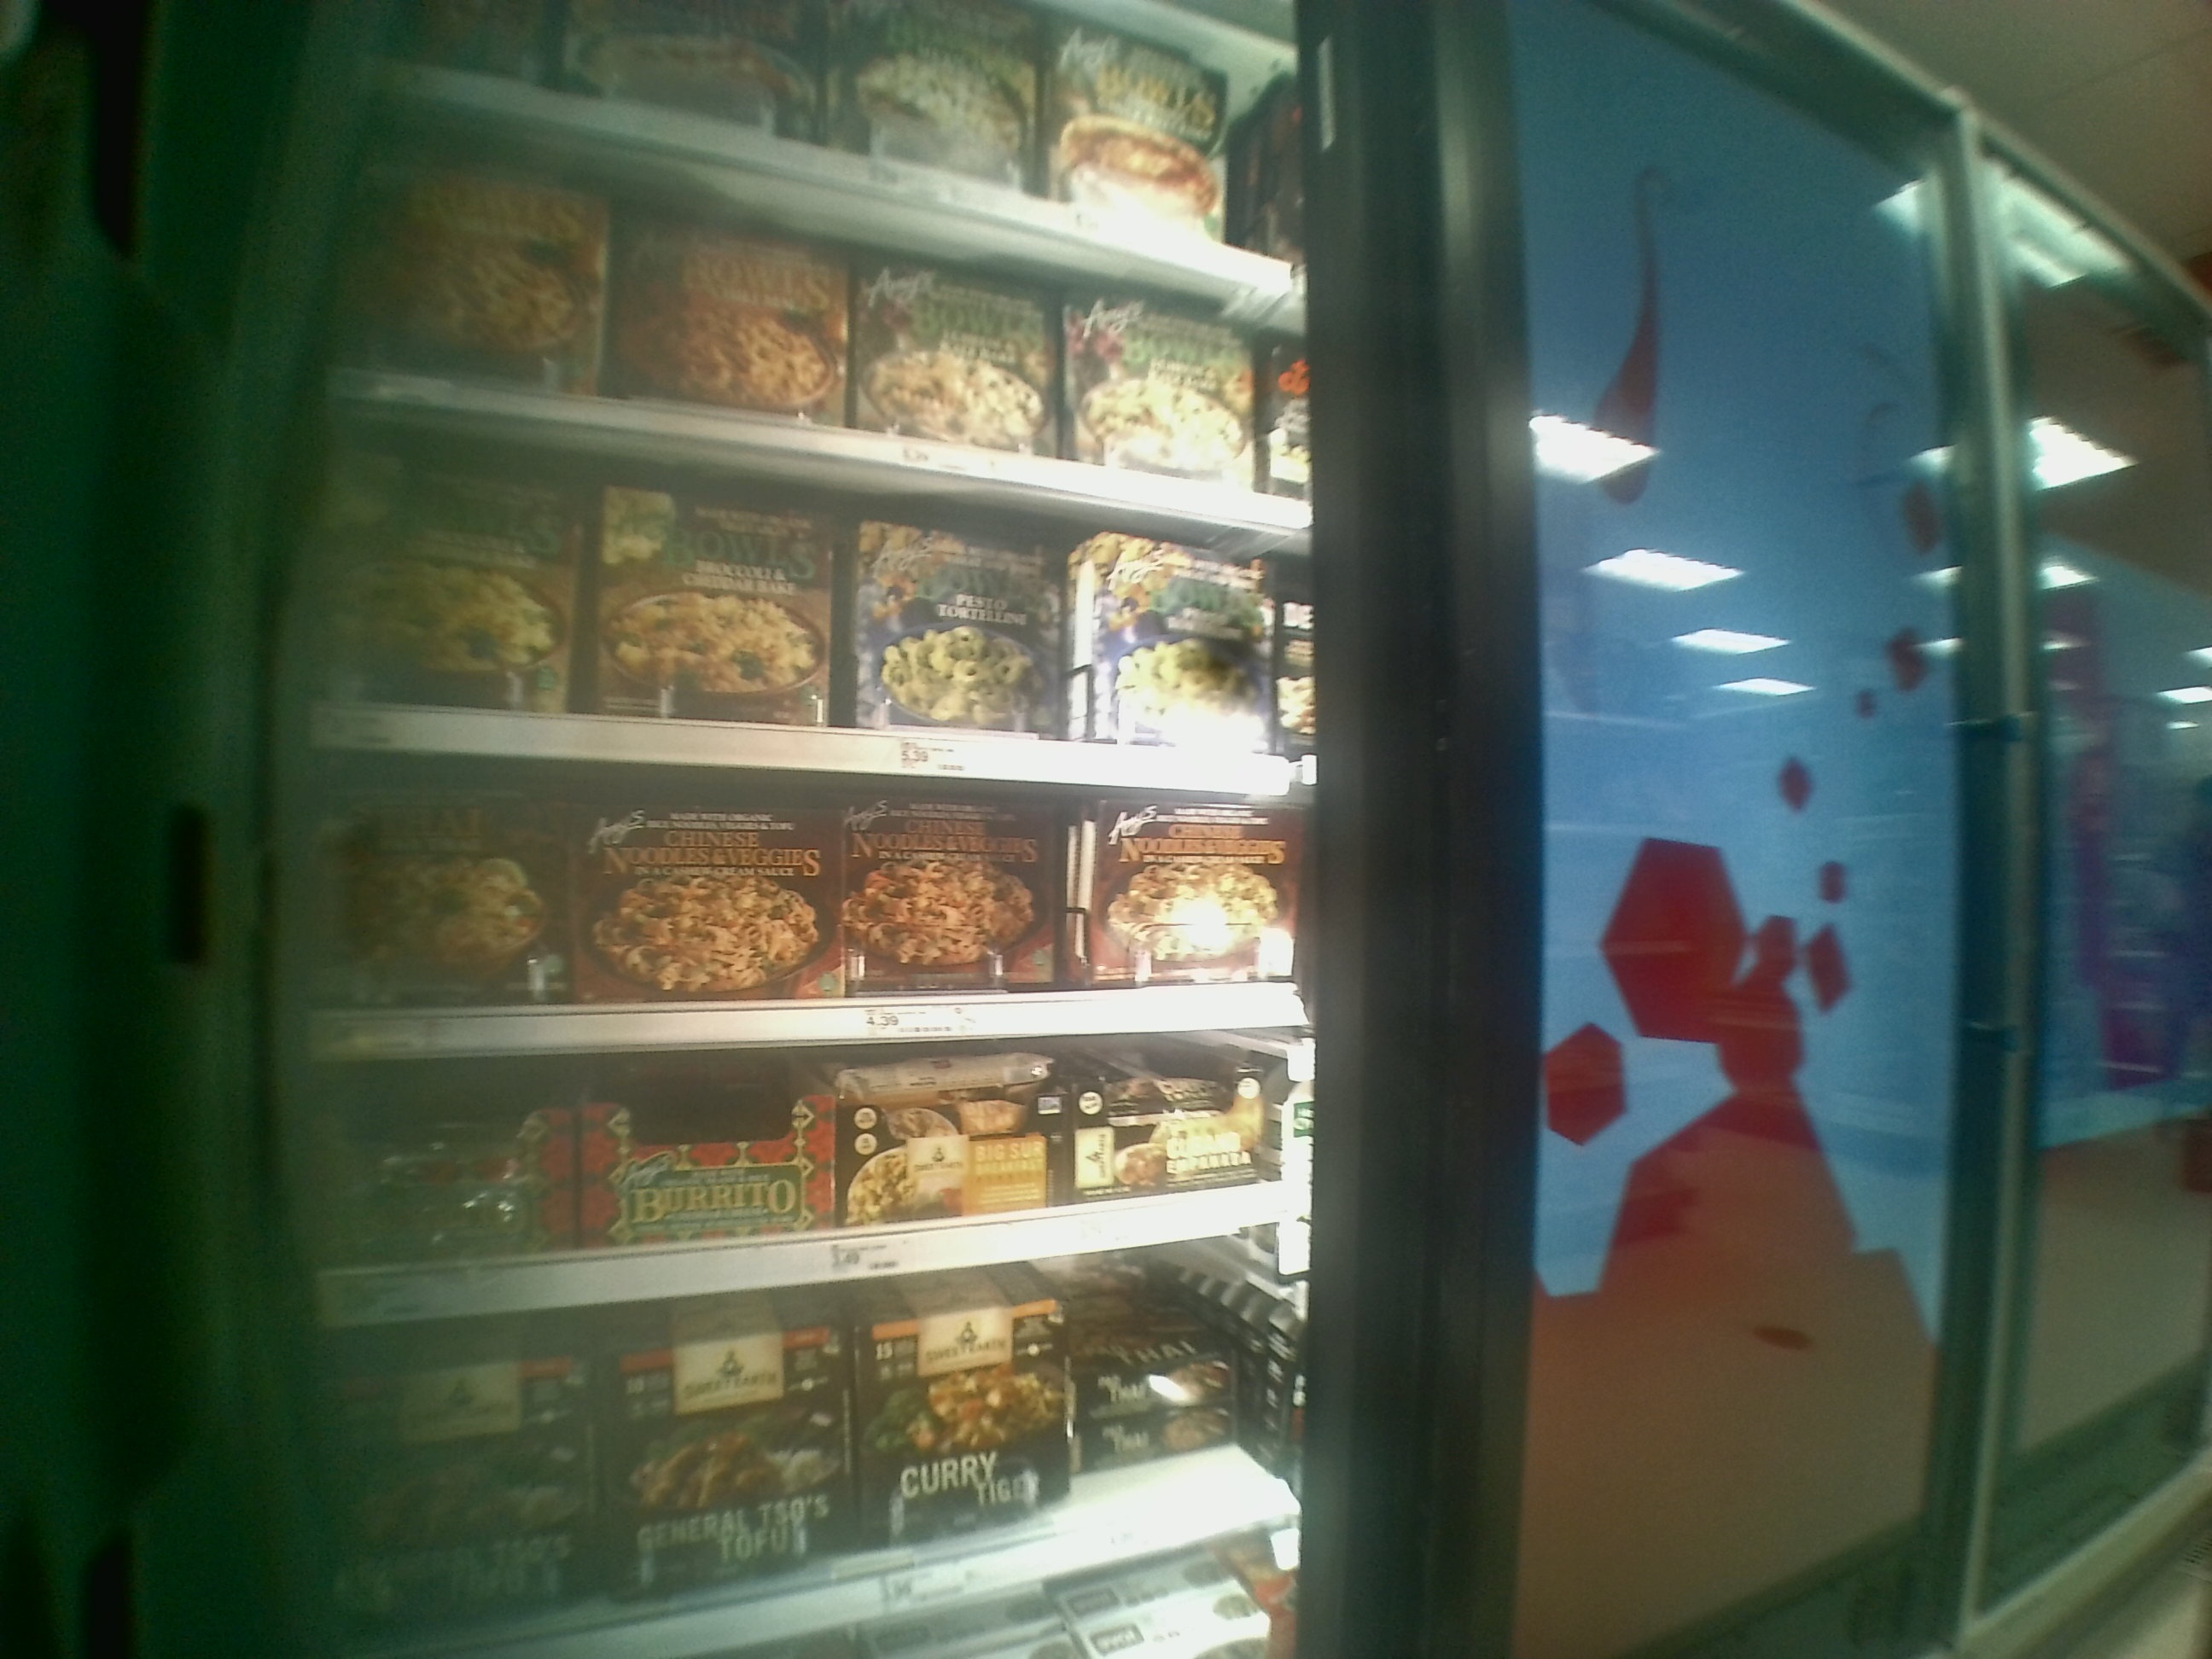frozen-food-shelf: (268, 493, 1308, 798), (270, 1065, 1334, 1333), (268, 802, 1325, 1060)
